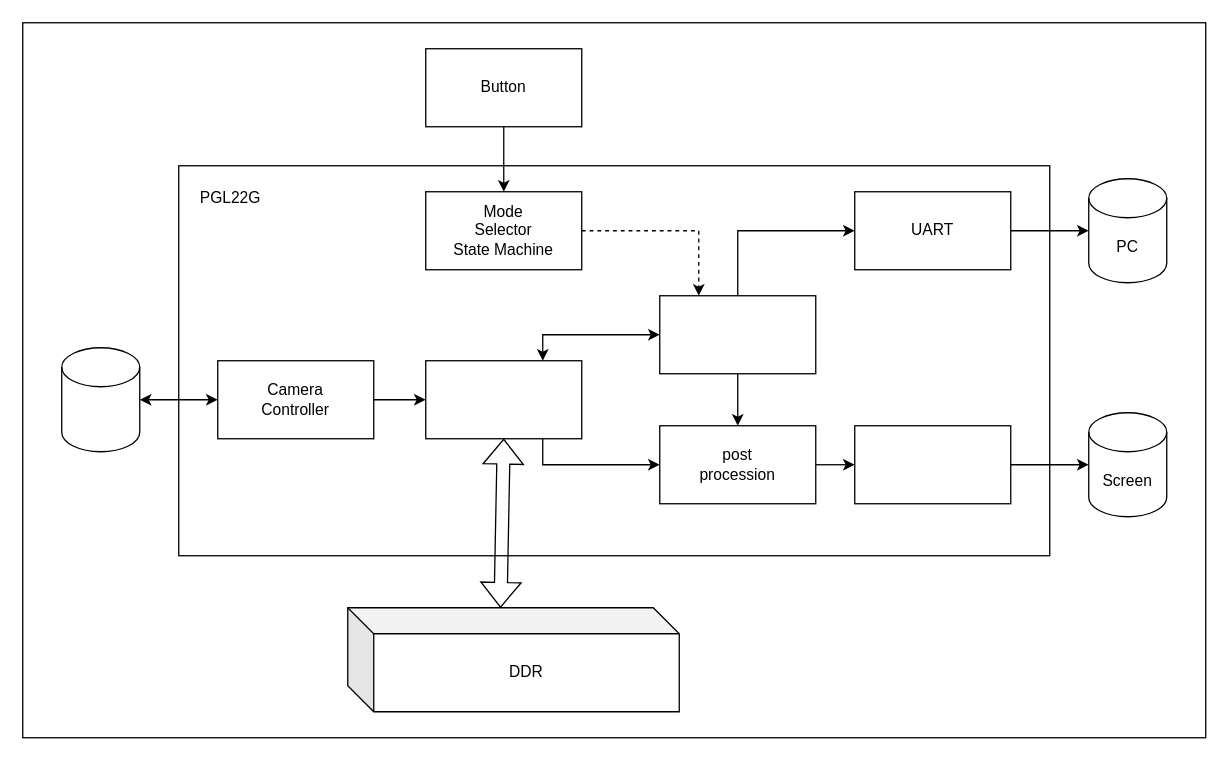
The diagram is 1229 pixels wide and 761 high, and some of its shapes have lost their labels. The box of each missing label's shape, as (x1, y1, x2, y2) in pixels:
ALINX Camera: (60, 346, 140, 452)
CNN Moduler: (658, 294, 816, 374)
DDR Controller: (424, 359, 582, 439)
HDMI Controller: (853, 424, 1011, 504)
